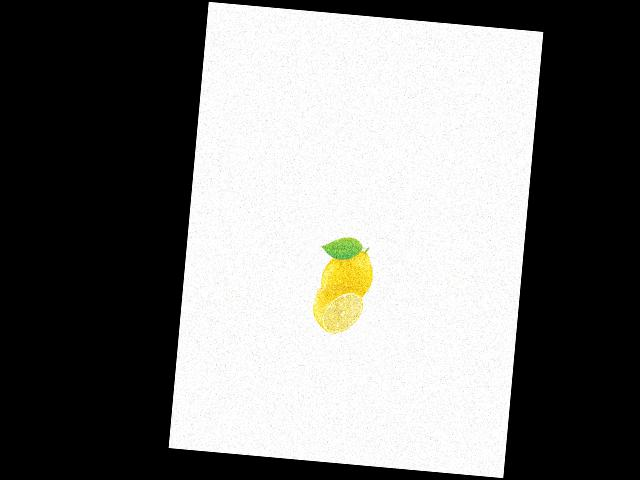lemon: (318, 242, 376, 299)
